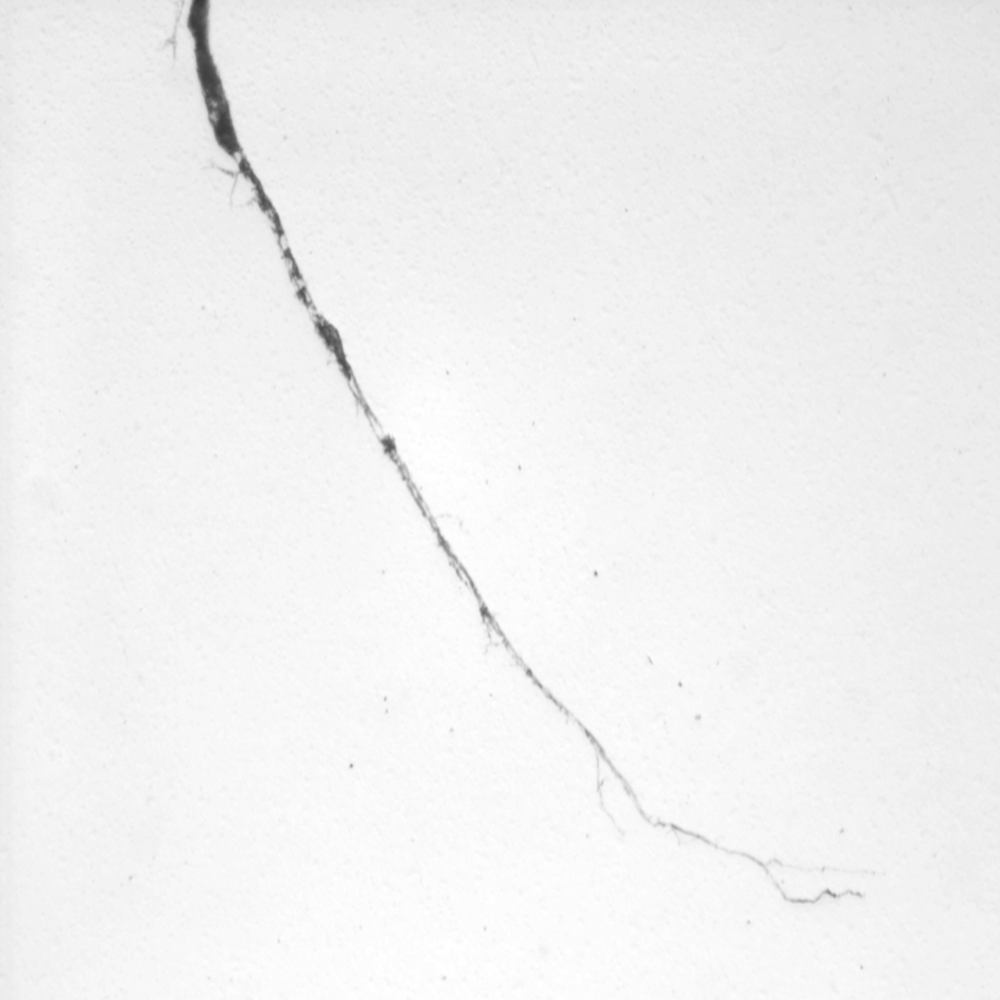crack: (178, 1, 892, 933)
